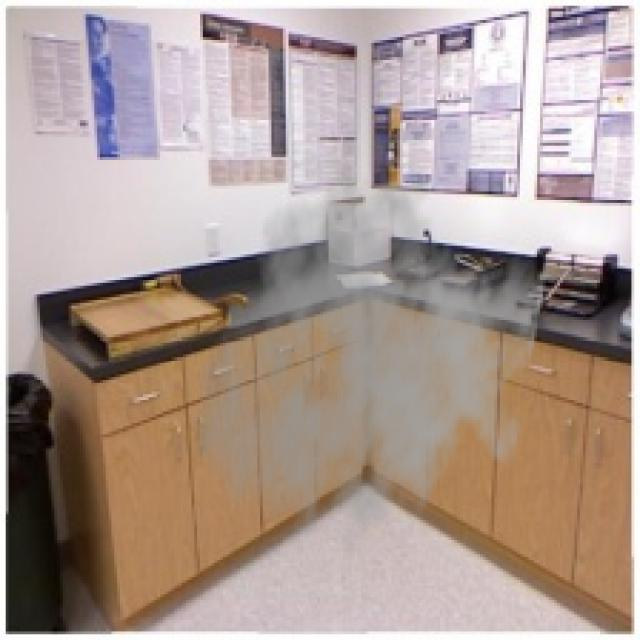smoke: (192, 154, 548, 577)
